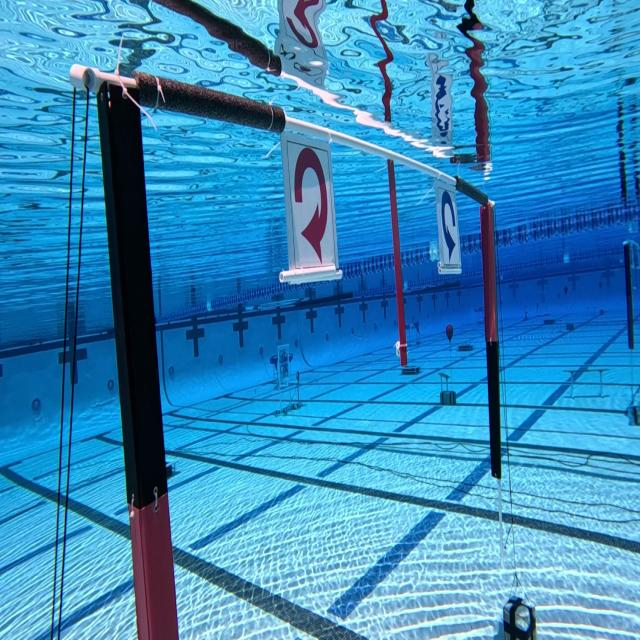blue_side: (437, 177, 460, 275)
red_side: (287, 131, 333, 284)
